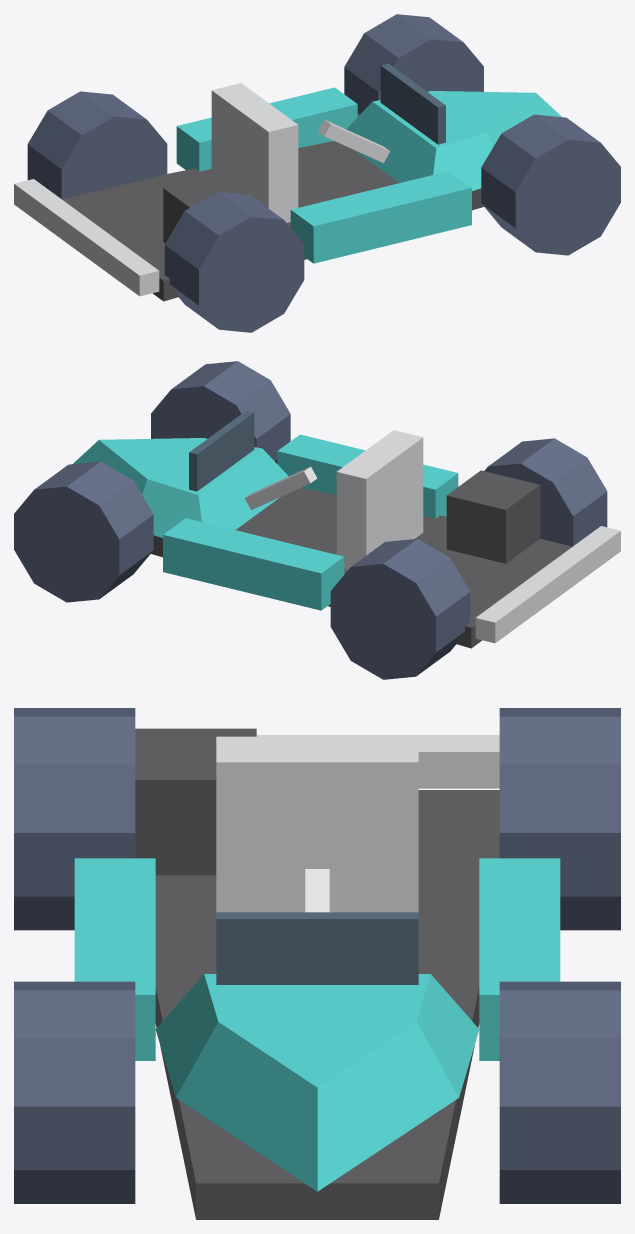
The model's file is car_kart.glb.
3 views of the same model, one above another, from view 1: azimuth 30°, elevation 25°; view 2: azimuth 150°, elevation 25°; view 3: azimuth 270°, elevation 25° (orthographic). The views are drawn at different scales.
Bounding box in the file's own units: 0.25 × 0.068 × 0.15.
